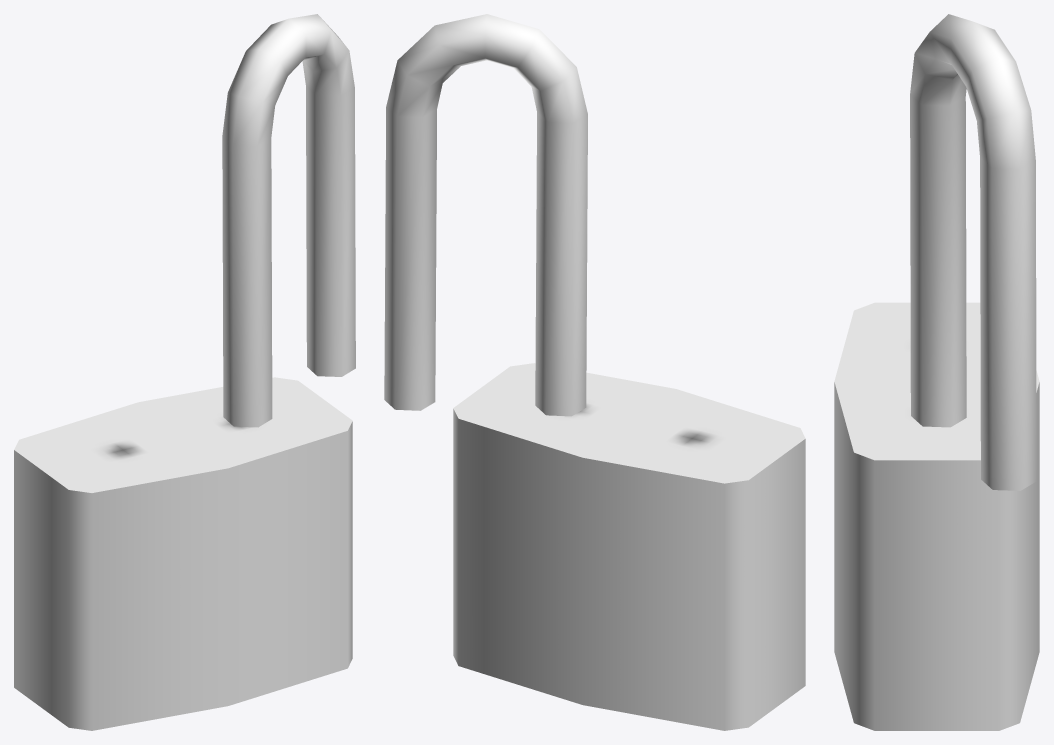
The model's file is FBX_Lock_open.fbx.
The picture shows the model from 3 angles, left to right: view 1: azimuth 30°, elevation 25°; view 2: azimuth 150°, elevation 25°; view 3: azimuth 270°, elevation 25°; orthographic projection. The views are drawn at different scales.
Parts seen in each view (by area): view 1: SM_Lock_open; view 2: SM_Lock_open; view 3: SM_Lock_open.
Boxes of the visible parts, x1,y1,x2,y2 form: SM_Lock_open: (14, 14, 355, 730); SM_Lock_open: (384, 14, 805, 730); SM_Lock_open: (834, 14, 1039, 730).
Size of the model in its own units: 0.048 by 0.0825 by 0.022.
